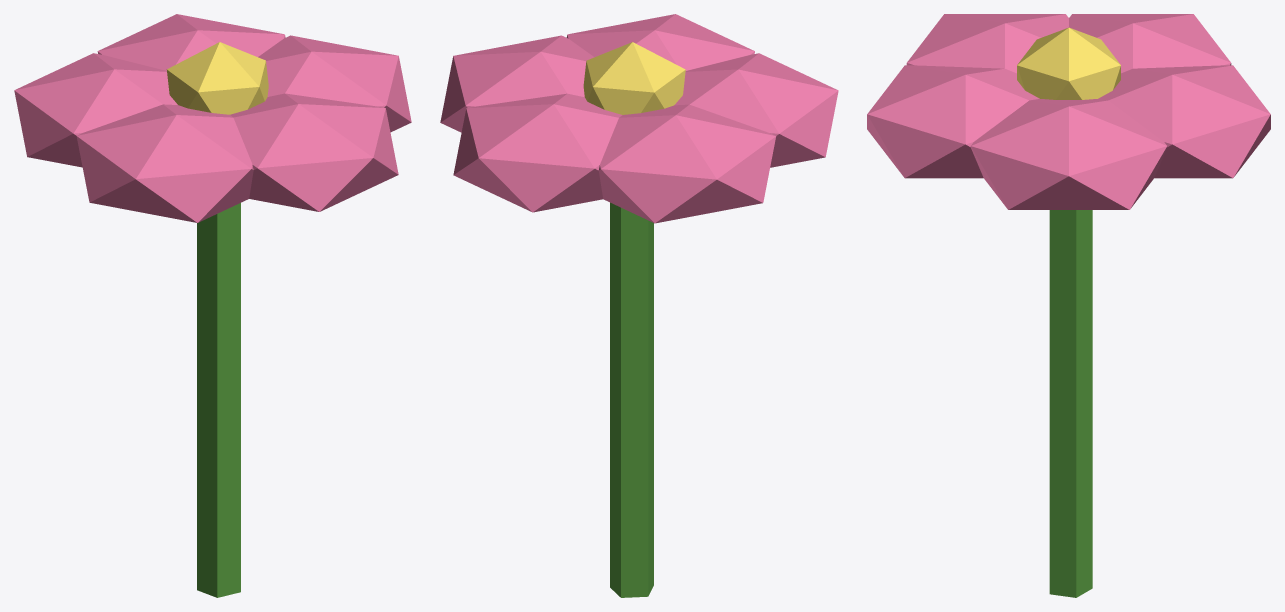
Rendered from flower_pink.glb.
3 views of the same model, side by side, from view 1: azimuth 30°, elevation 25°; view 2: azimuth 150°, elevation 25°; view 3: azimuth 270°, elevation 25° (orthographic). The views are drawn at different scales.
Parts seen in each view (by area): view 1: Cylinder; view 2: Cylinder; view 3: Cylinder.
Part boxes in pixels (x1,y1,x2,y2): Cylinder: (14,14,411,597); Cylinder: (440,14,838,597); Cylinder: (867,14,1270,597).
Bounding box in the file's own units: 0.2493 × 0.3822 × 0.2493.
